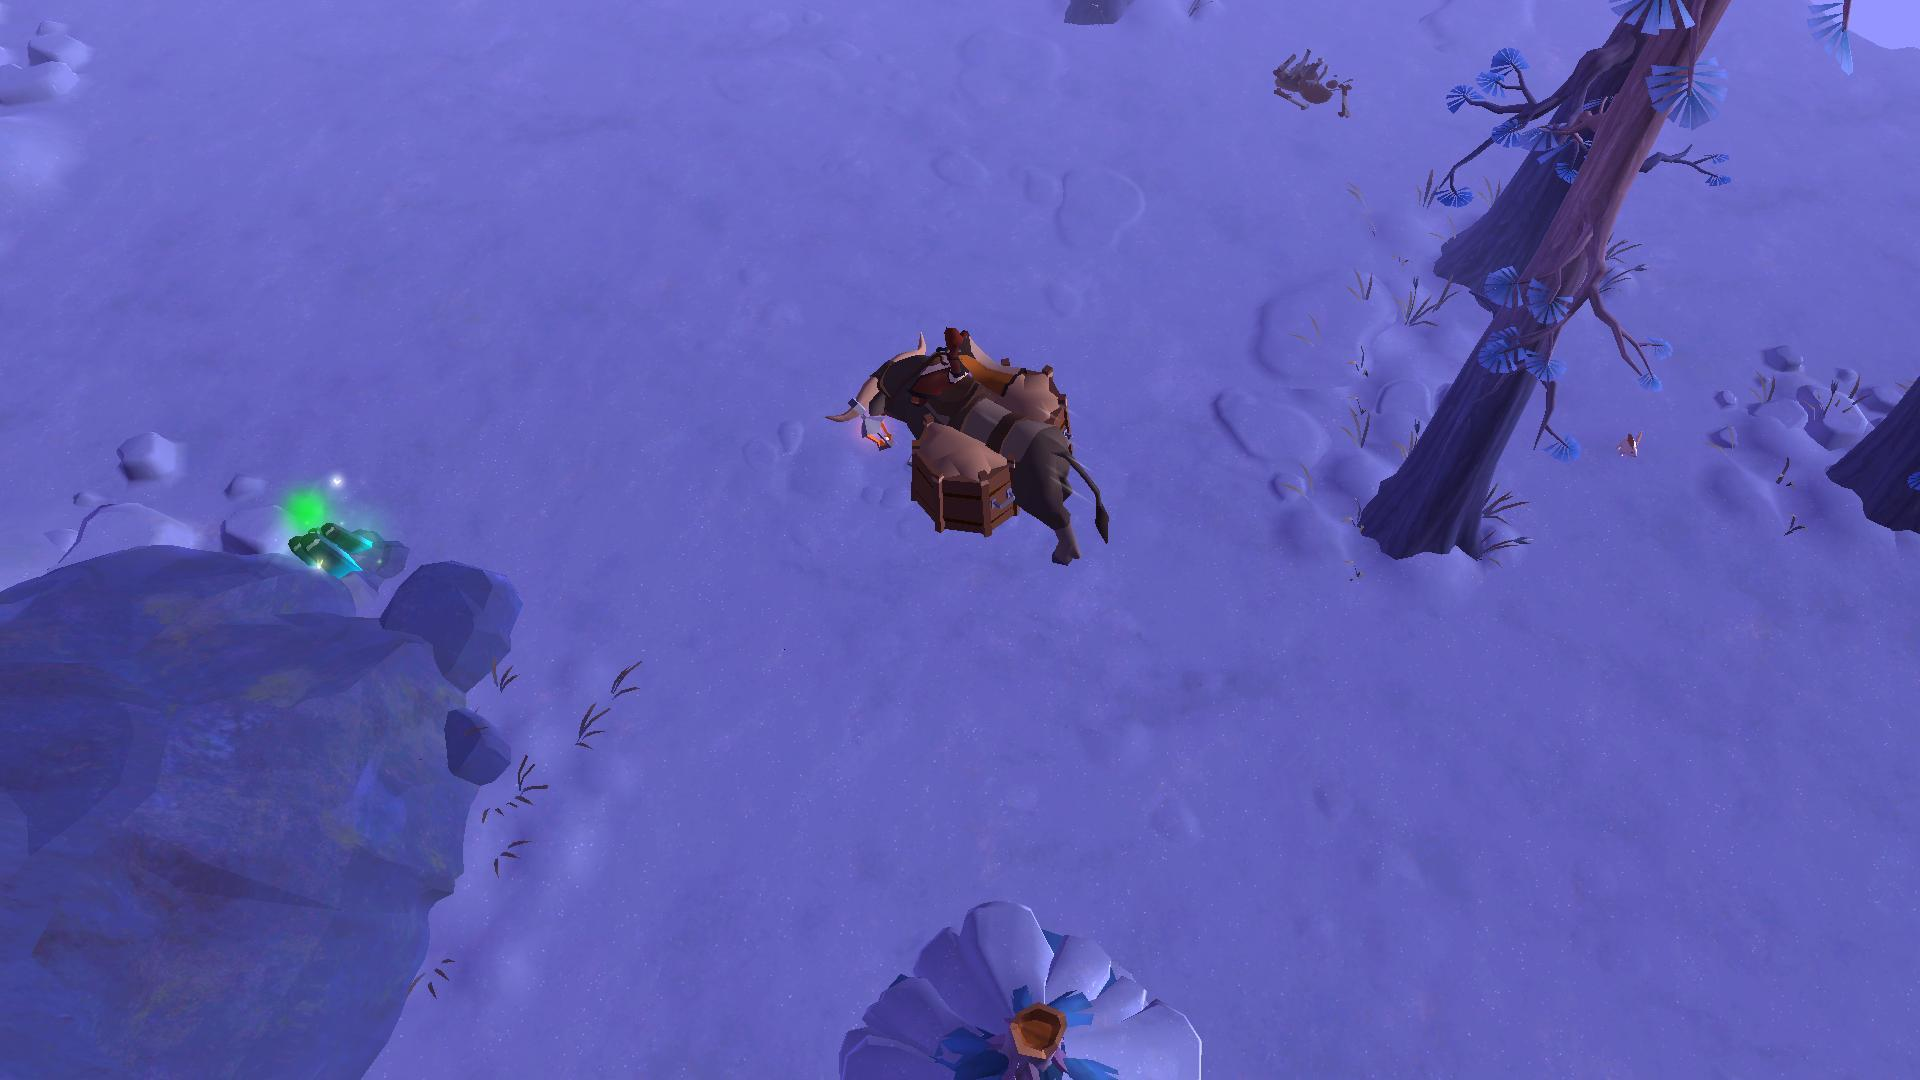ore_t4: (287, 517, 369, 582)
